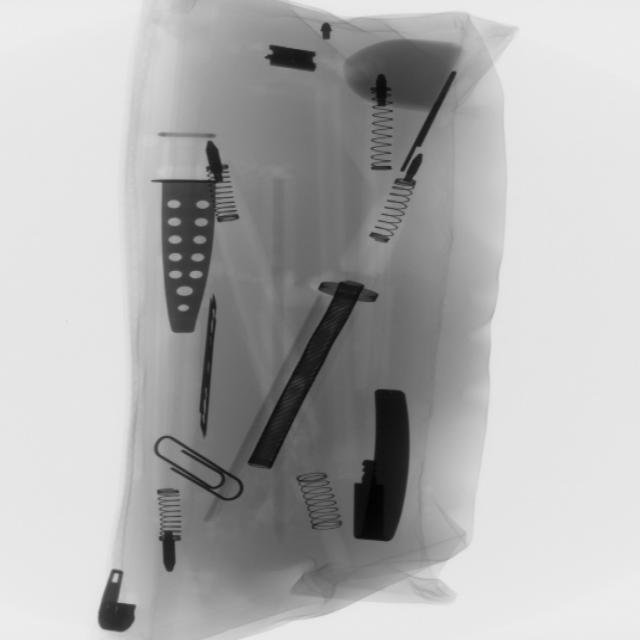SHURIKEN: (187, 291, 229, 442)
